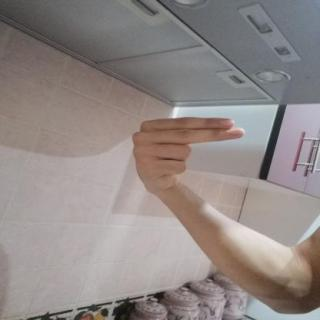AYN: (120, 110, 258, 194)
